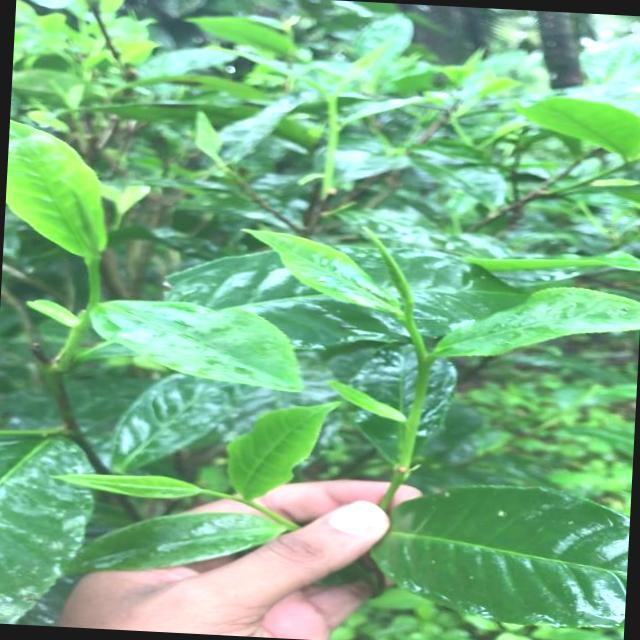Stem: (414, 366, 431, 401), (69, 312, 91, 338), (250, 502, 269, 515), (326, 96, 336, 119)
